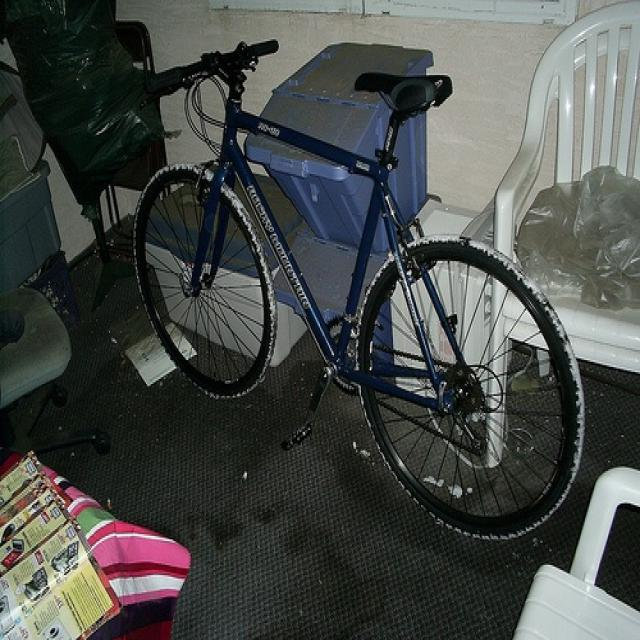bicycle: (135, 36, 588, 543)
chair: (489, 2, 639, 469)
